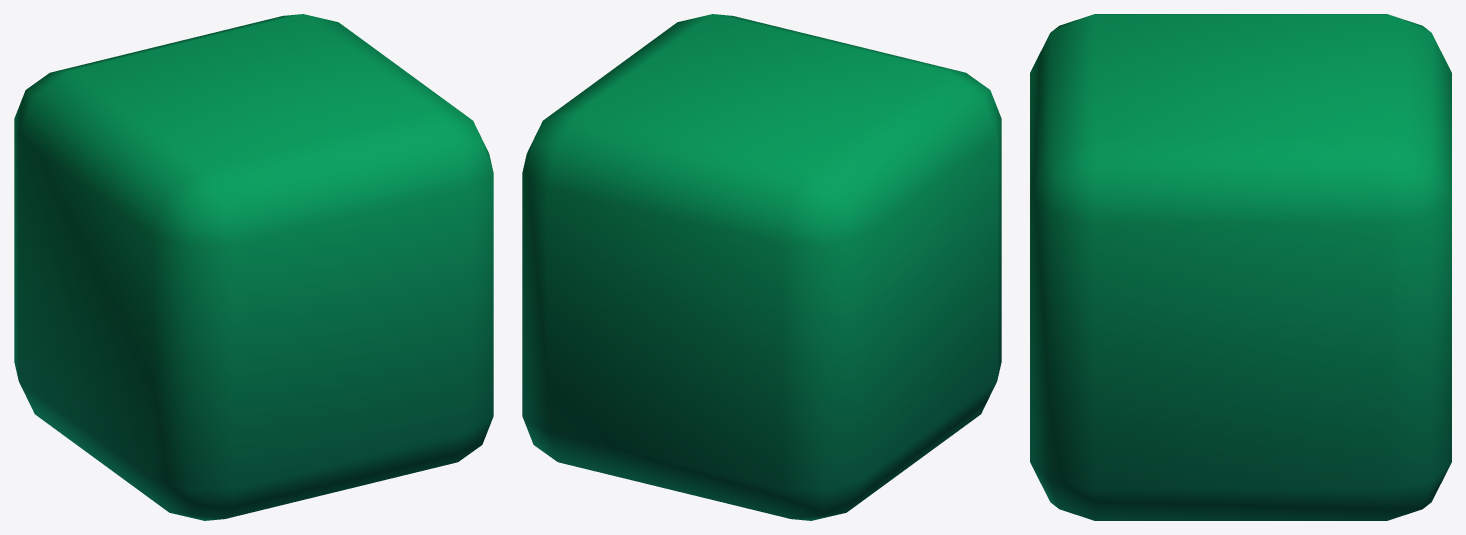
Rendered from Bush_2_C_Color2.fbx.
3 views of the same model, side by side, from view 1: azimuth 30°, elevation 25°; view 2: azimuth 150°, elevation 25°; view 3: azimuth 270°, elevation 25° (orthographic). The views are drawn at different scales.
Visible parts, largest first — view 1: Bush_2_C_Color2; view 2: Bush_2_C_Color2; view 3: Bush_2_C_Color2.
Boxes of the visible parts, <box> form: Bush_2_C_Color2: <box>14,14,493,520</box>; Bush_2_C_Color2: <box>522,14,1001,520</box>; Bush_2_C_Color2: <box>1030,14,1451,520</box>.
Size of the model in its own units: 1.32 by 1.32 by 1.32.
